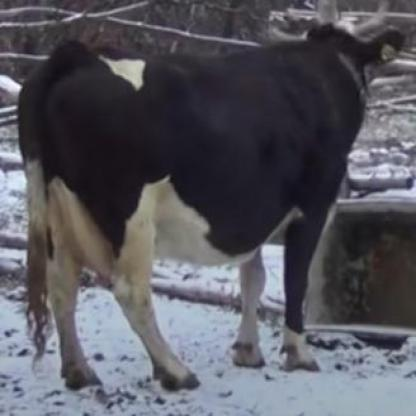cow: (17, 21, 407, 391)
